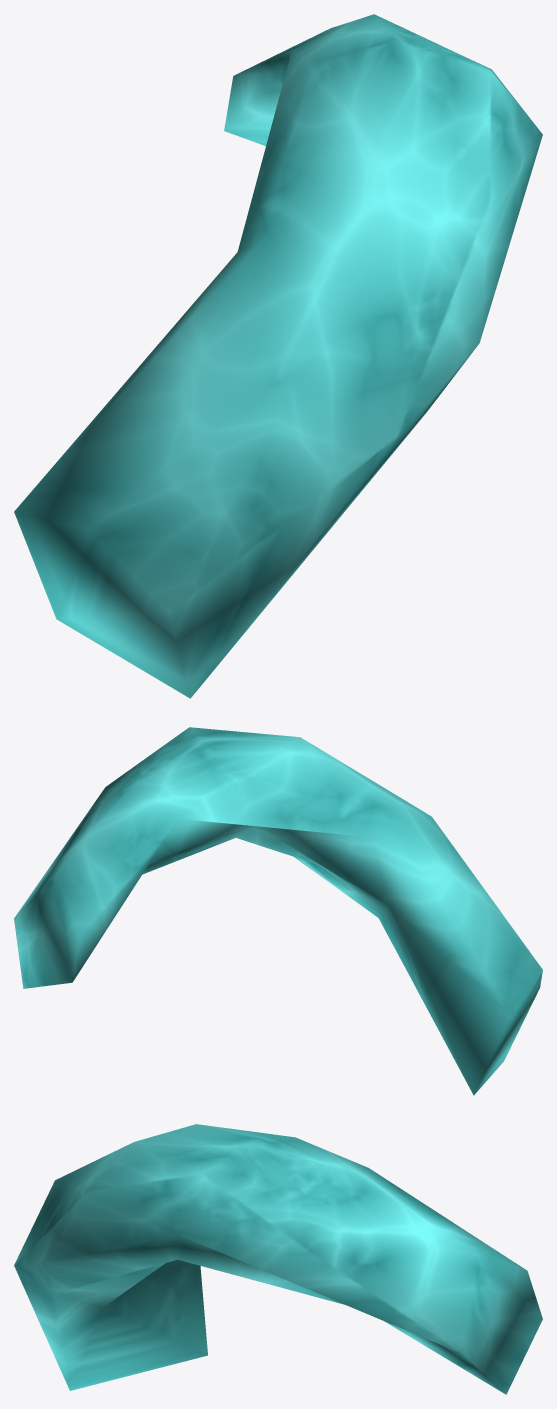
Rendered from WaterstoneParticle.fbx.
The picture shows the model from 3 angles, top to bottom: view 1: azimuth 30°, elevation 25°; view 2: azimuth 150°, elevation 25°; view 3: azimuth 270°, elevation 25°; orthographic projection. The views are drawn at different scales.
Parts seen in each view (by area): view 1: WaterstoneParticle.028; view 2: WaterstoneParticle.028; view 3: WaterstoneParticle.028.
Part boxes in pixels (x1=…): WaterstoneParticle.028: x1=14, y1=14, x2=542, y2=698; WaterstoneParticle.028: x1=14, y1=727, x2=542, y2=1095; WaterstoneParticle.028: x1=14, y1=1124, x2=542, y2=1394.
Size of the model in its own units: 126 by 102 by 130.
